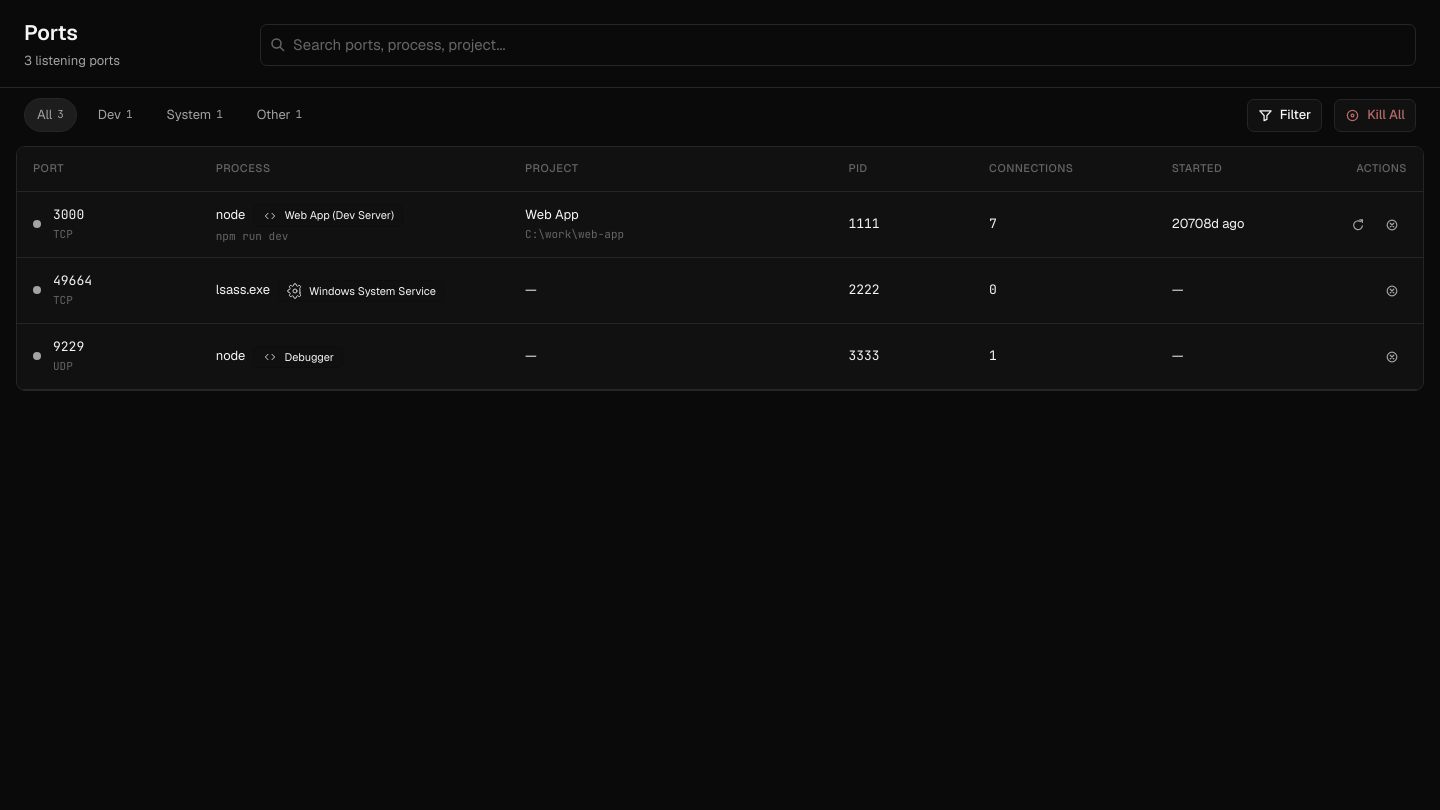
PortsPage › confirms before killing the current filtered results
Type "node" into the search field labelled "Search ports".
click(838, 45); type("node")  # box 260,24 -> 1416,66
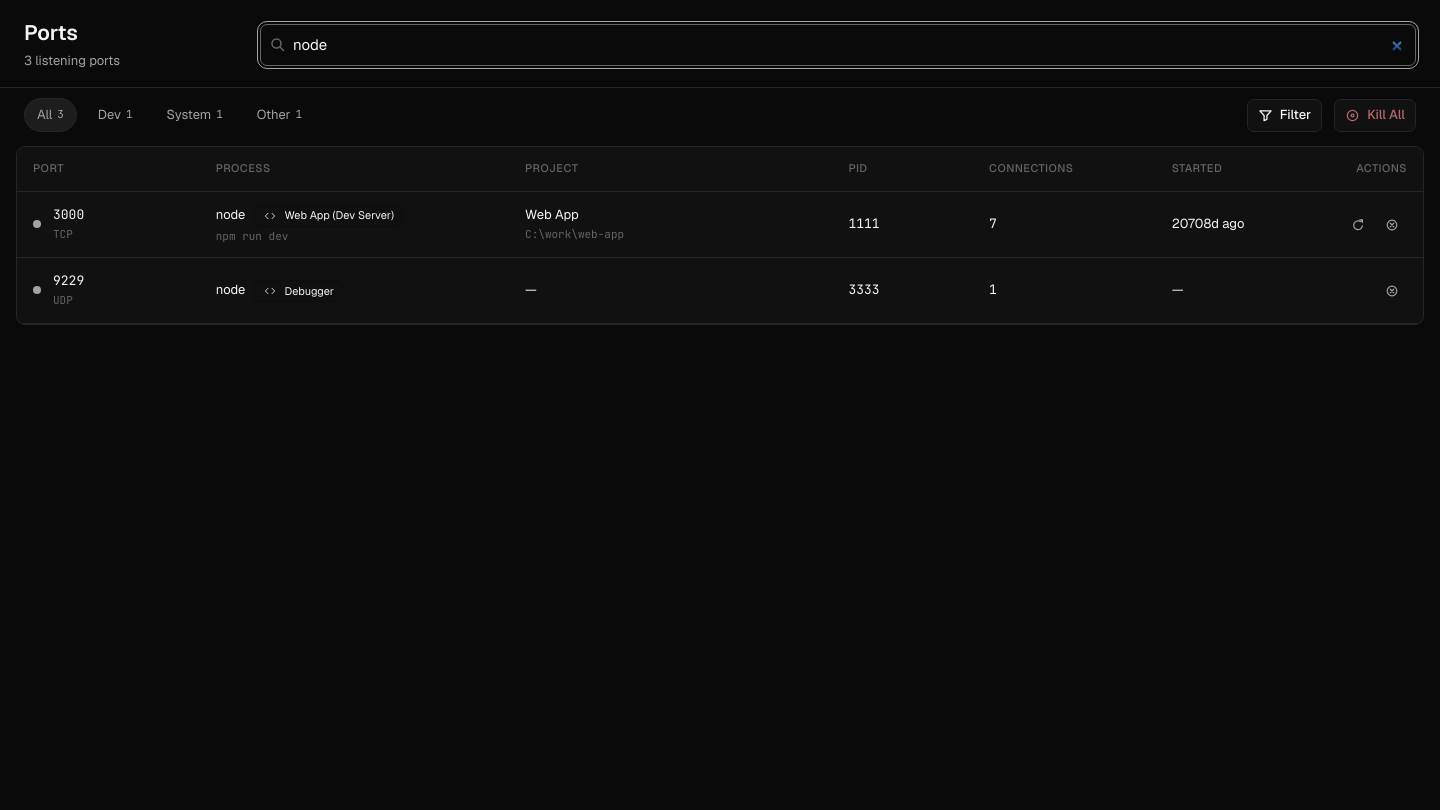
Click the button "Kill All".
click(1375, 115)  # box 1334,99 -> 1416,132
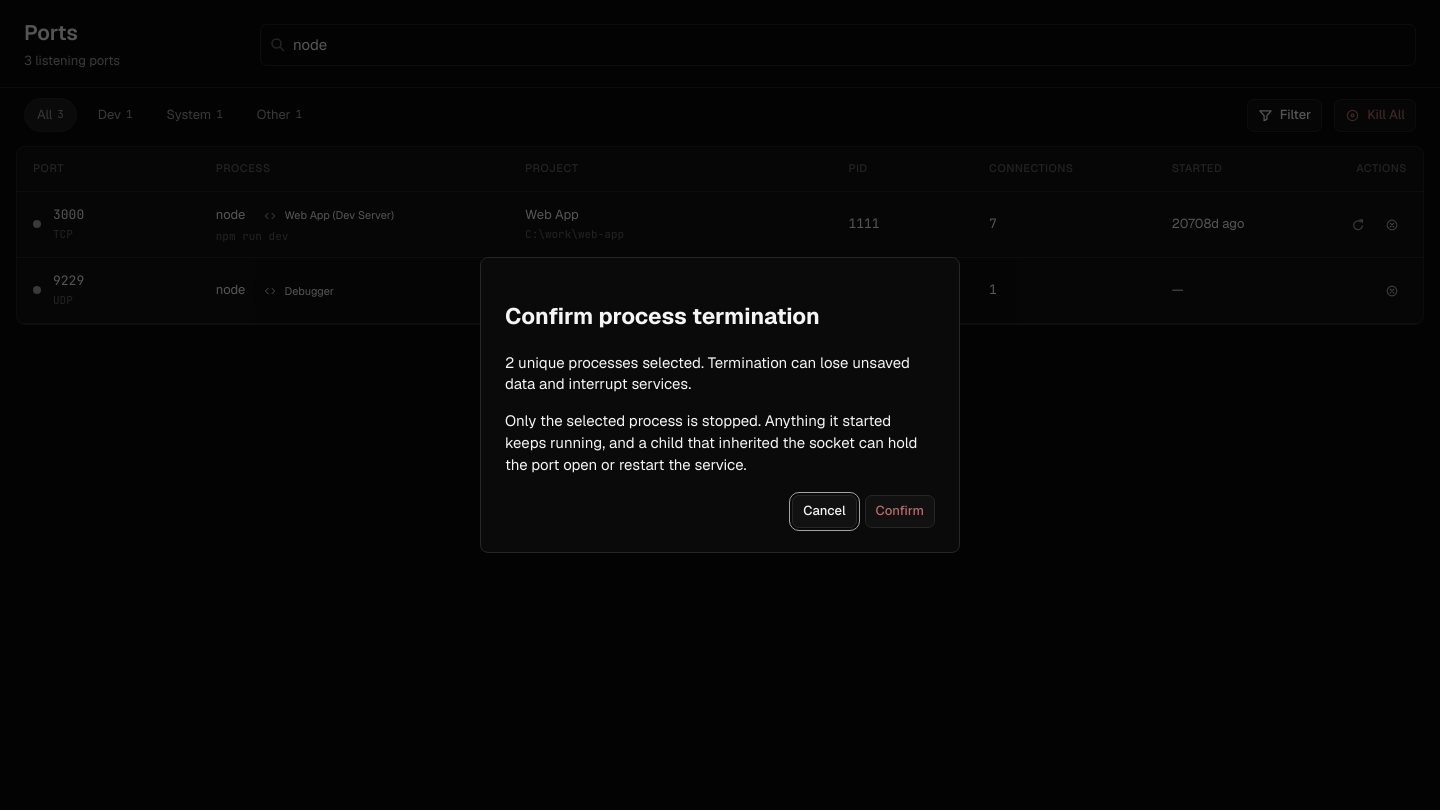
Result: the dialog "Confirm process termination" is shown at 480,257 -> 960,553
Click the button "Confirm".
click(900, 512)  # box 865,495 -> 935,528
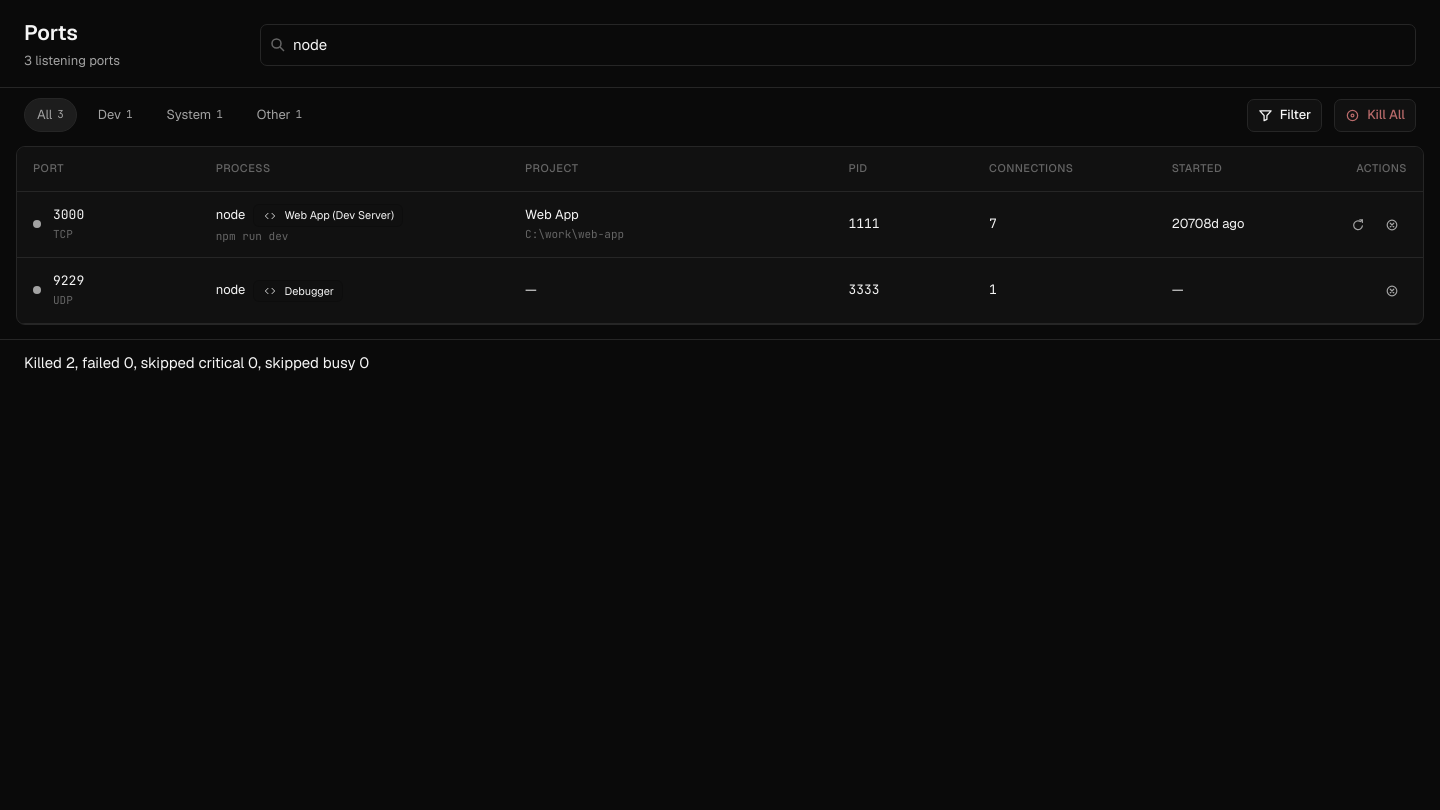
Result: the dialog is gone
